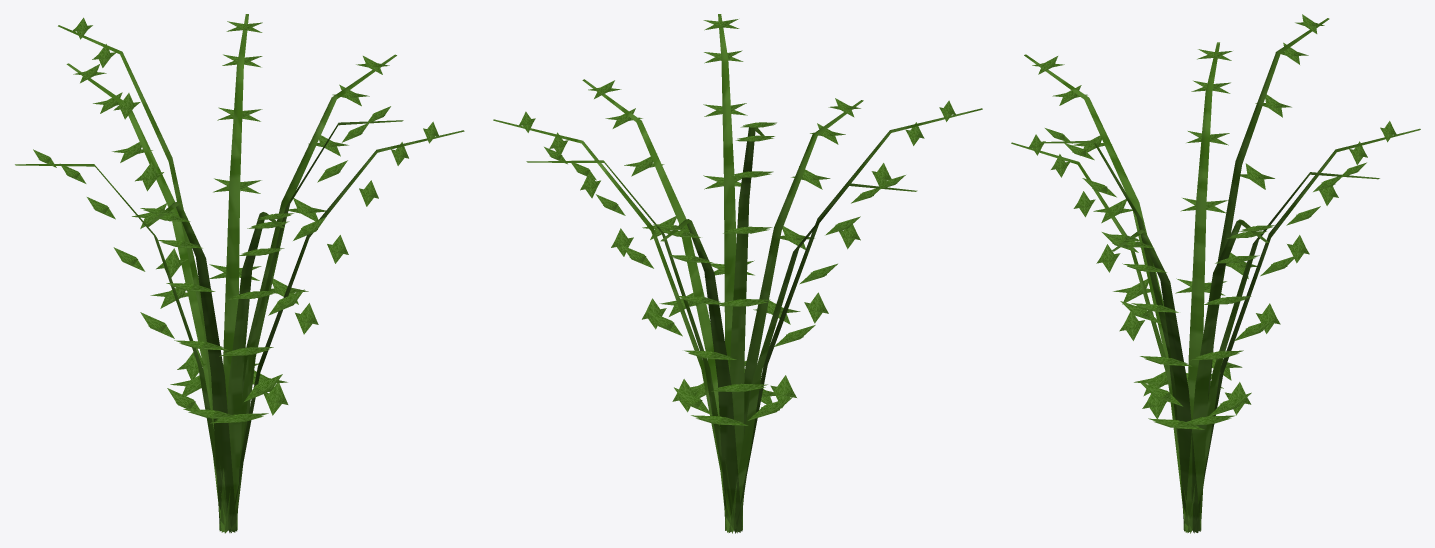
File: fern01-lod0.glb
3 views of the same model, side by side, from view 1: azimuth 30°, elevation 25°; view 2: azimuth 150°, elevation 25°; view 3: azimuth 270°, elevation 25° (orthographic). The views are drawn at different scales.
Visible parts, largest first — view 1: TZ_ground_plant_Batch_00_LOD0; view 2: TZ_ground_plant_Batch_00_LOD0; view 3: TZ_ground_plant_Batch_00_LOD0.
Part boxes in pixels (x1,y1,x2,y2): TZ_ground_plant_Batch_00_LOD0: (15, 14, 464, 533); TZ_ground_plant_Batch_00_LOD0: (493, 14, 982, 533); TZ_ground_plant_Batch_00_LOD0: (1011, 14, 1420, 533).
Bounding box in the file's own units: 0.6371 × 0.72 × 0.5713.
1 material, 1 textured.
